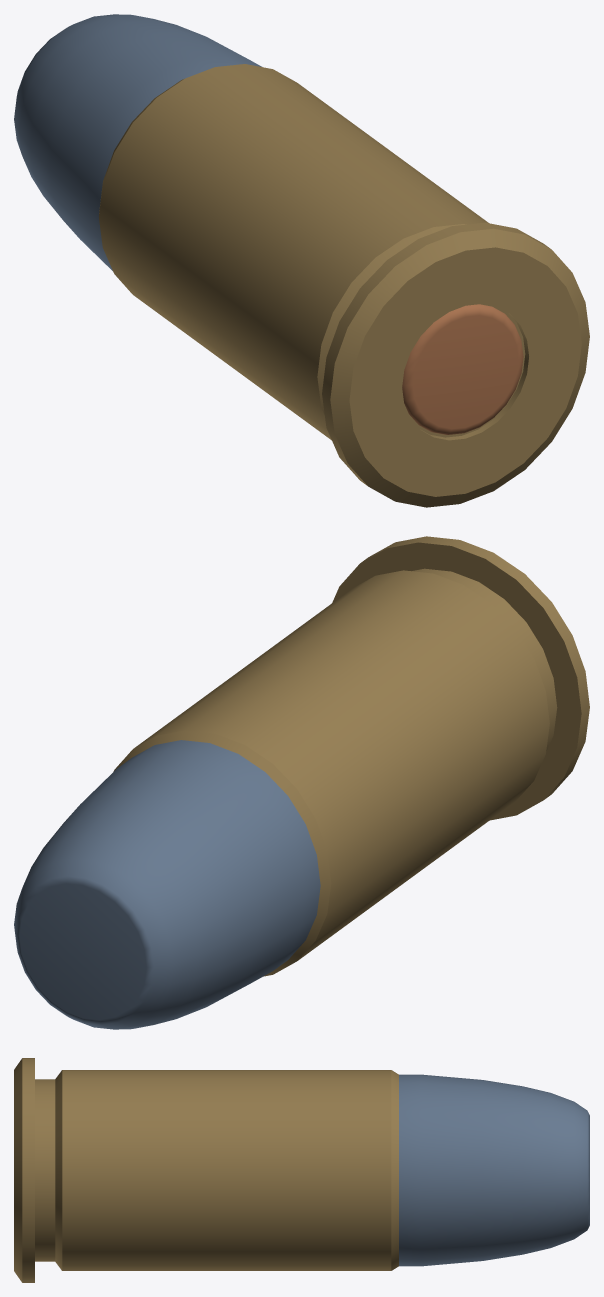
Rendered from PistolRound.fbx.
3 renders of one model, top to bottom at view 1: azimuth 30°, elevation 25°; view 2: azimuth 150°, elevation 25°; view 3: azimuth 270°, elevation 25°, orthographic. The views are drawn at different scales.
Parts seen in each view (by area): view 1: PistolRound; view 2: PistolRound; view 3: PistolRound.
Part boxes in pixels (box(x1,y1,x2,y2)): PistolRound: box(14, 14, 589, 507); PistolRound: box(14, 536, 589, 1029); PistolRound: box(14, 1058, 589, 1282).
Size of the model in its own units: 1.17 by 1.17 by 2.99.
